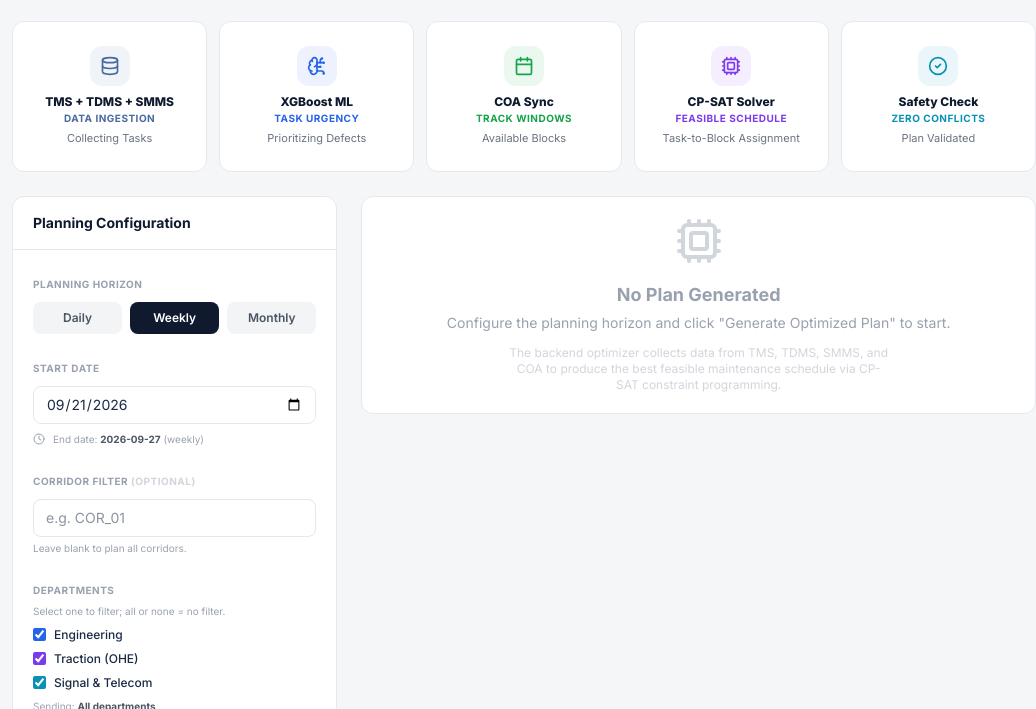
it: PlannerPage — Generate Plan Integration › POSTs the correct fields to /generate-plan
Type "2026-08-25" into the date field labelled "Start Date".
click(175, 404); type("2026-08-25")  # box [33,386,316,424]
(page scrolled)
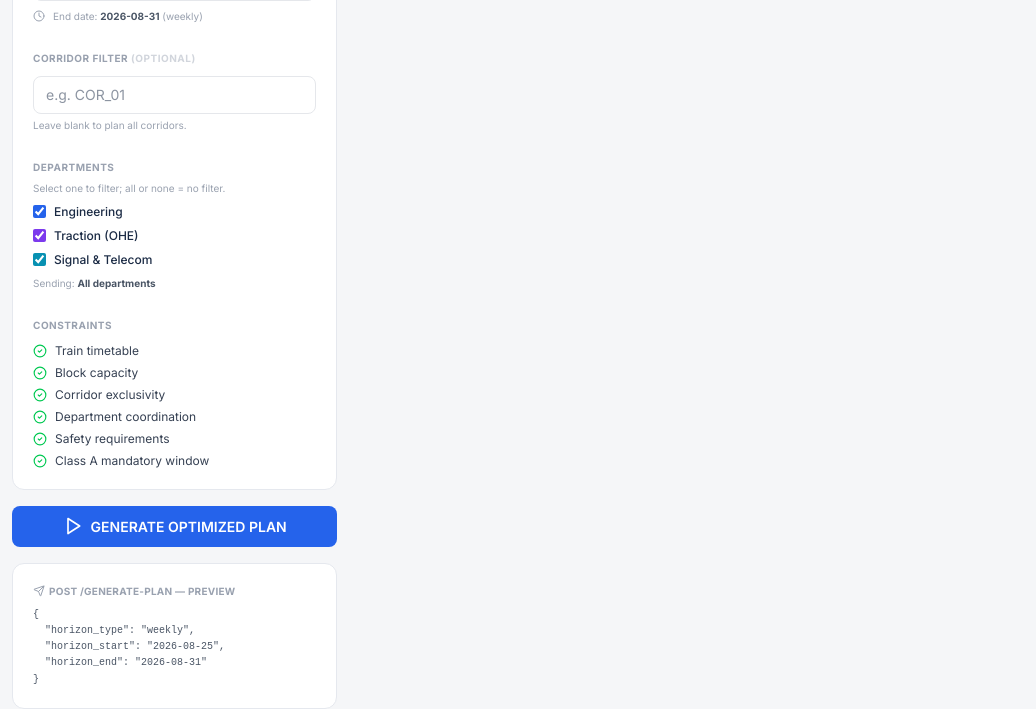
Click the button "GENERATE OPTIMIZED PLAN".
click(175, 526)  # box [12,506,337,546]
(page scrolled)
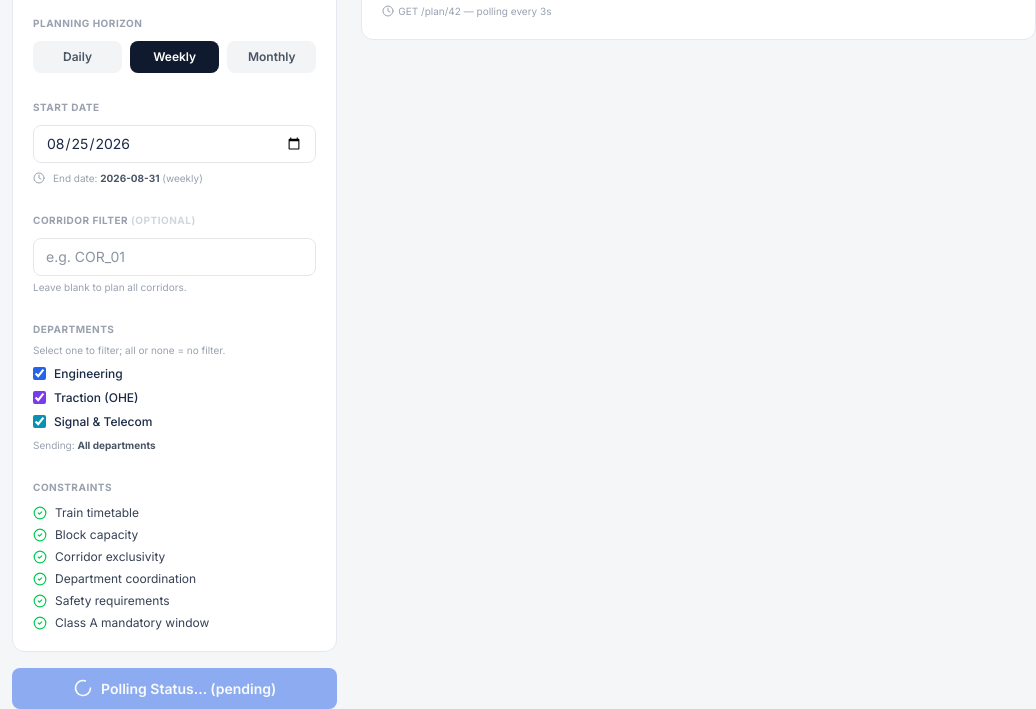
Now the button "Polling Status… (pending)" is disabled, box [12,668,337,708]
